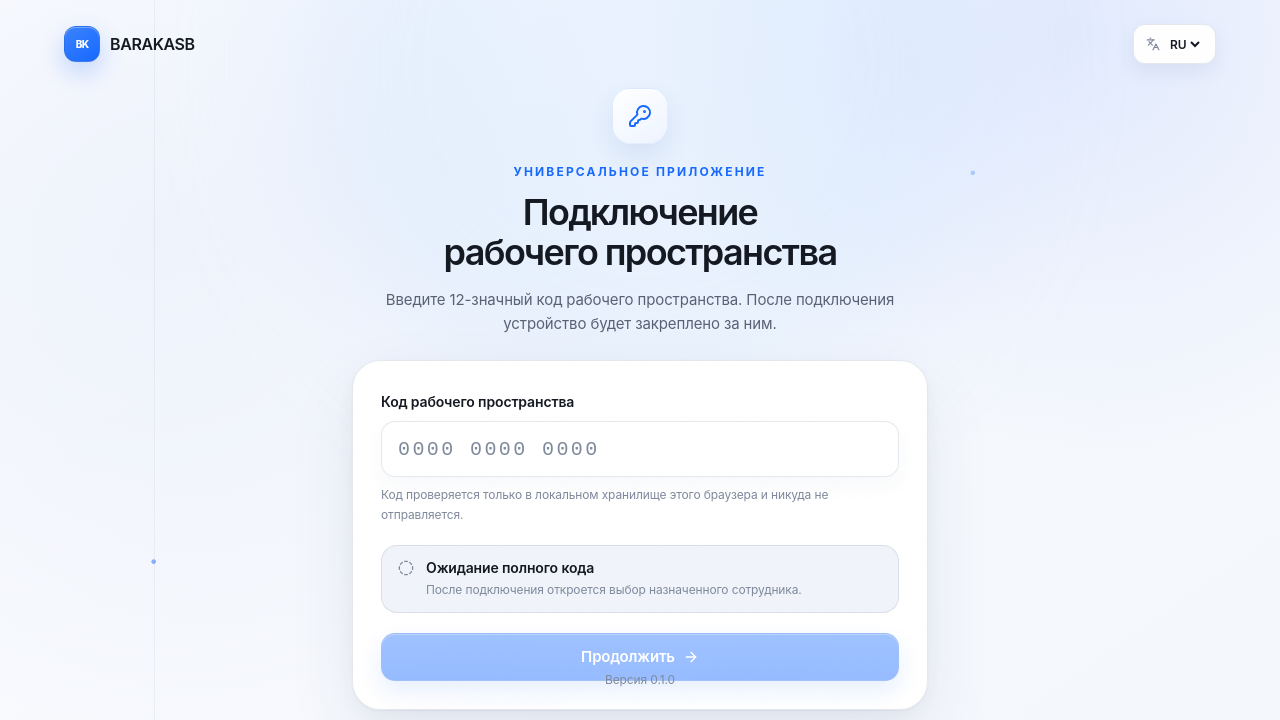
ConnectionScreen › keeps continue disabled for an incomplete Workspace Code
Type "1234" into the field labelled "Код рабочего пространства".
click(640, 449); type("1234")  # box [381,421,899,477]
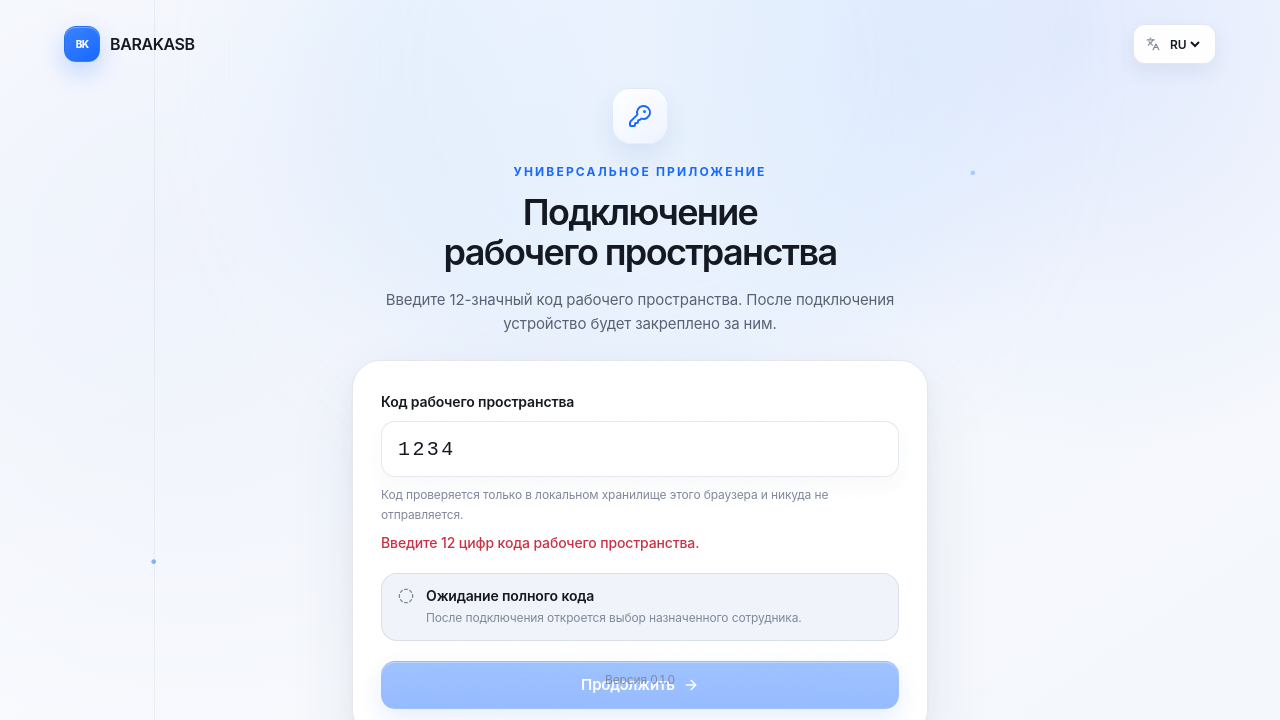
Check: the button "Продолжить" is disabled, box [381,661,899,709]
Check: the message reads "Введите 12 цифр кода рабочего пространства.", box [381,534,699,551]
